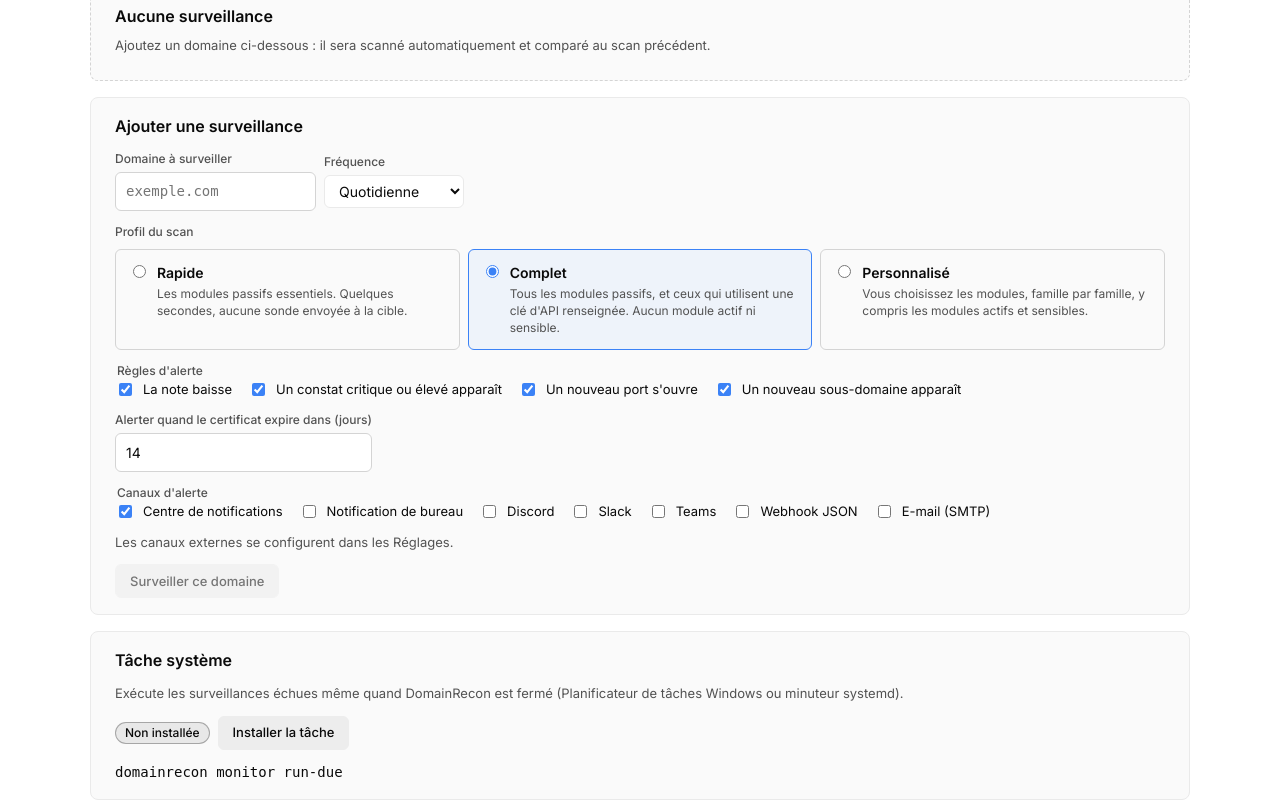
Test case: Surveillance › installe puis désinstalle la tâche système, ou dit qu'elle n'est pas prise en charge
The width and height of the screenshot is (1280, 800).
(page scrolled)
Expected: the text "Non installée" is shown, x1=115 y1=722 x2=210 y2=744
Click the button "Installer la tâche" at [284, 733], box x1=218 y1=716 x2=350 y2=750
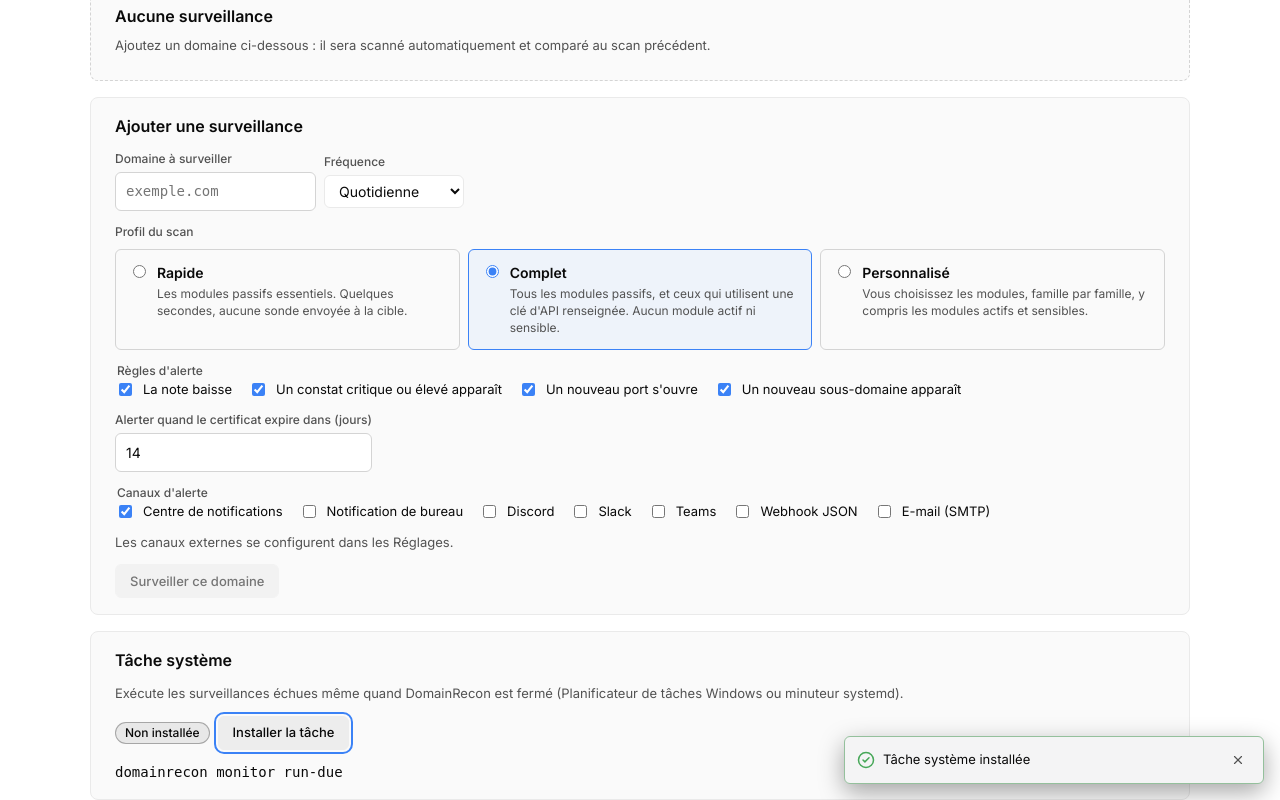
Expected: the text "Tâche système installée" is shown, x1=883 y1=751 x2=1030 y2=767
